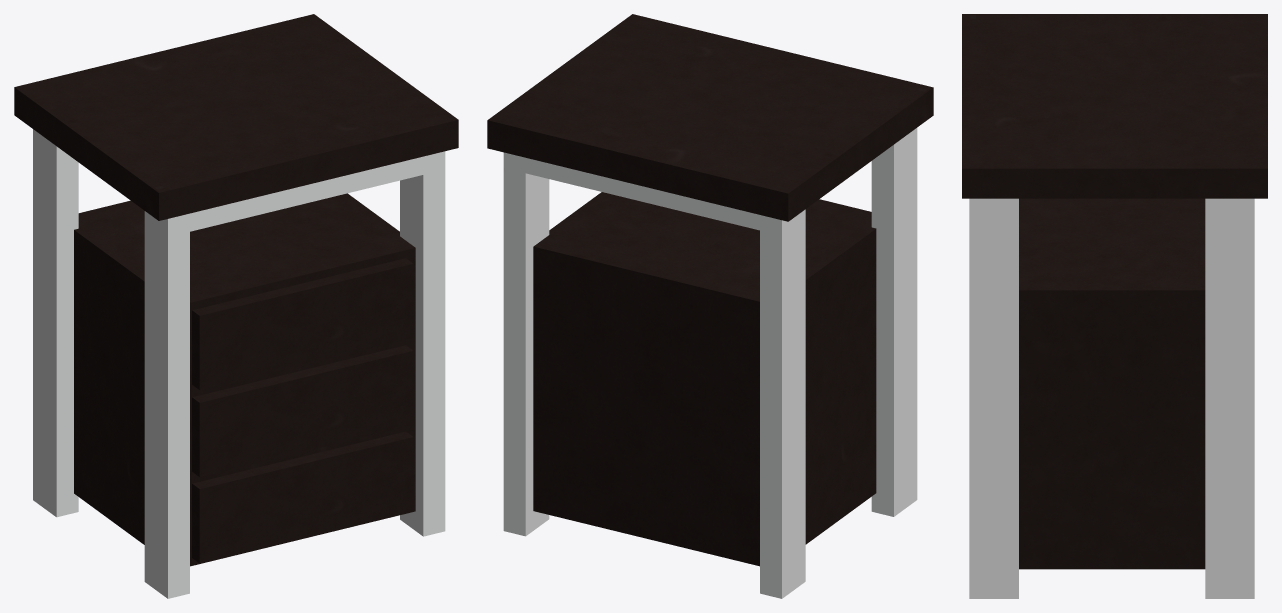
File: set drawer1.FBX
3 views of the same model, side by side, from view 1: azimuth 30°, elevation 25°; view 2: azimuth 150°, elevation 25°; view 3: azimuth 270°, elevation 25° (orthographic). The views are drawn at different scales.
Visible parts, largest first — view 1: set drawer1; view 2: set drawer1; view 3: set drawer1.
Boxes of the visible parts, box(x1,y1,x2,y2) form: set drawer1: box(14, 14, 458, 598); set drawer1: box(487, 14, 933, 598); set drawer1: box(962, 14, 1267, 598).
Size of the model in its own units: 70.67 by 92.69 by 59.03.
Materials: 1 (1 with a texture image).
